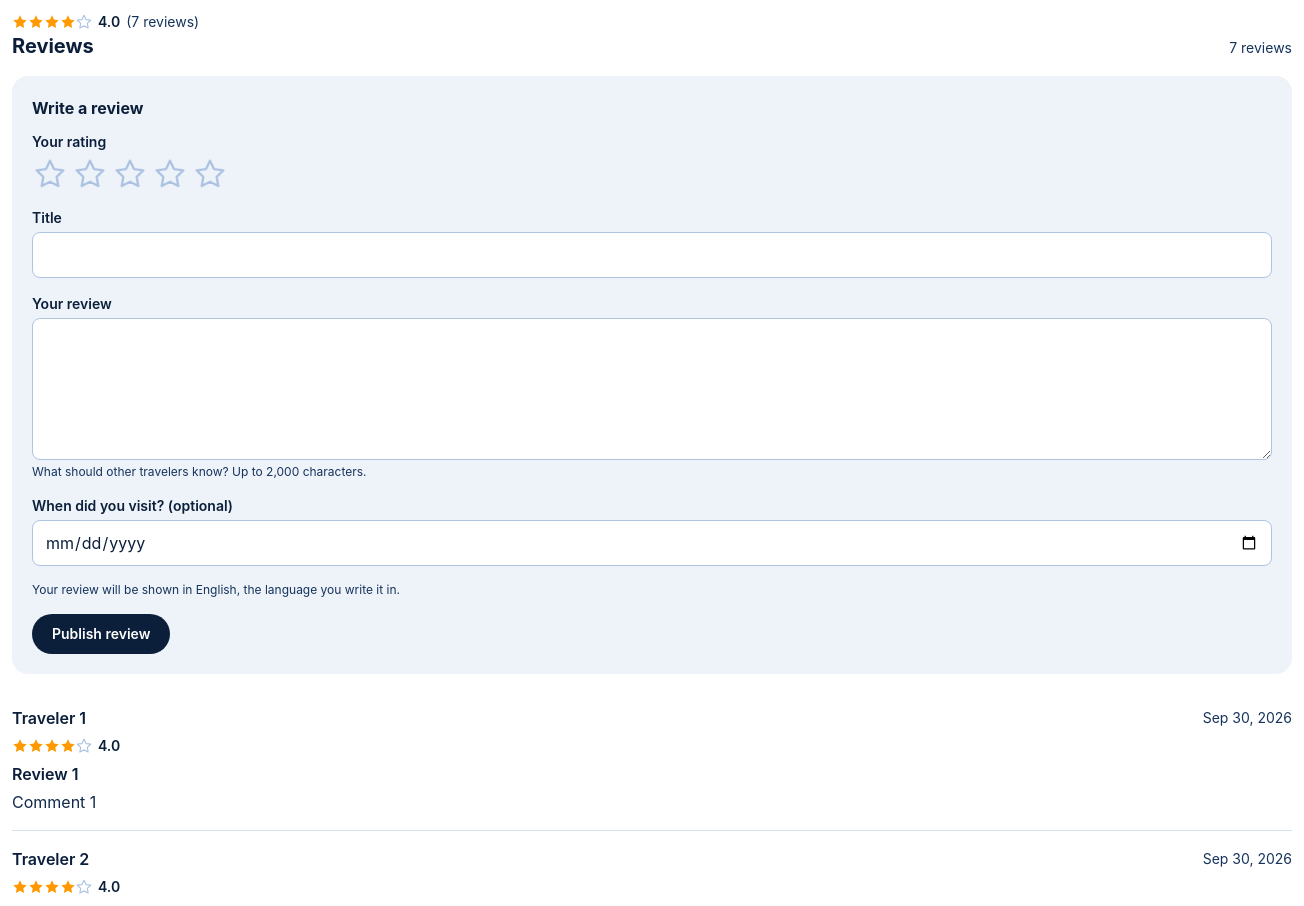
Test: ReviewsSection › validates the form before sending anything
The image size is (1304, 906).
Click the button "Publish review" at (101, 634), box [32, 614, 170, 654]
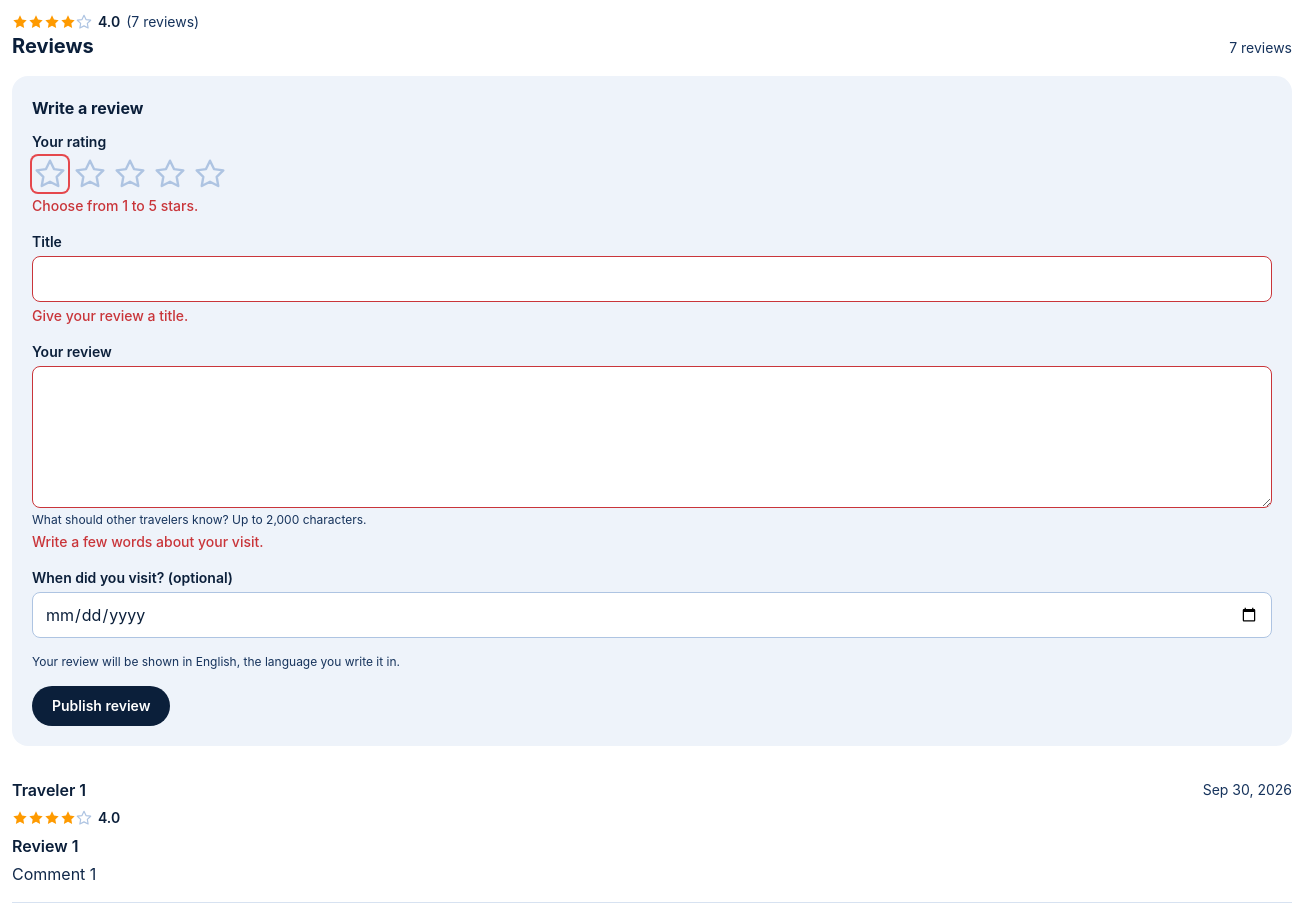
Expected: the text "Choose from 1 to 5 stars." is shown, [32, 197, 198, 214]
Expected: the text "Give your review a title." is shown, [32, 307, 188, 324]
